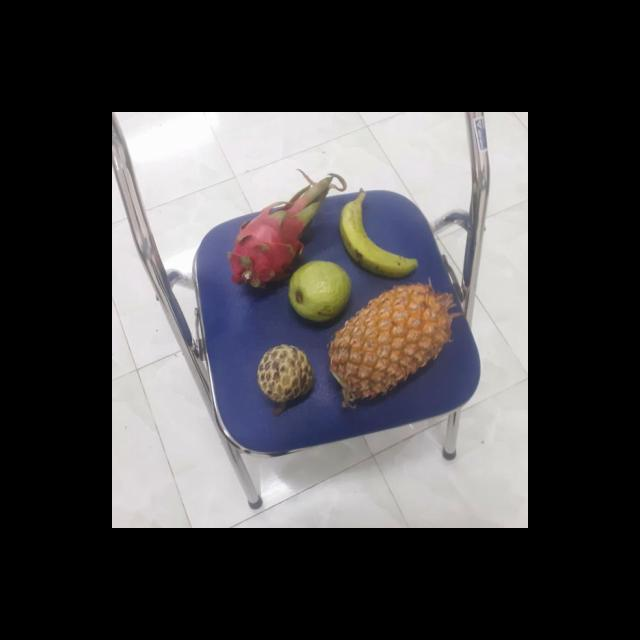Sakya fruit: (258, 344, 320, 404)
banana: (340, 195, 421, 278)
guava: (288, 262, 354, 326)
pineapple: (330, 284, 460, 404)
pitaya: (232, 191, 330, 288)
